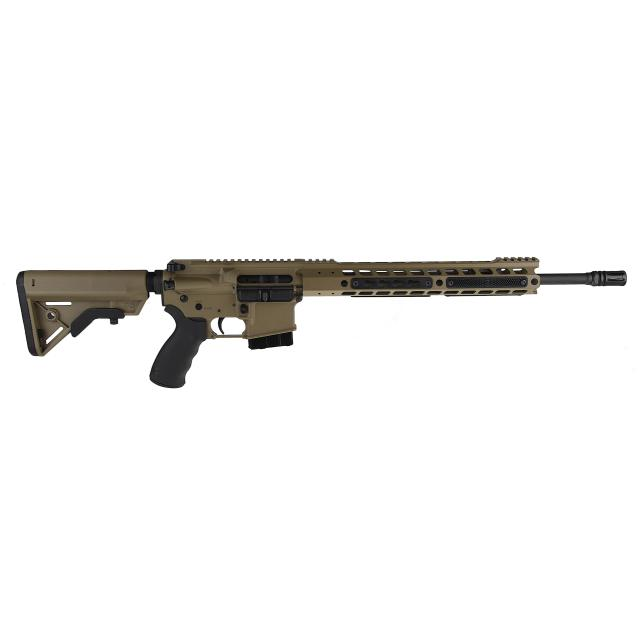Rifle: (14, 257, 629, 391)
